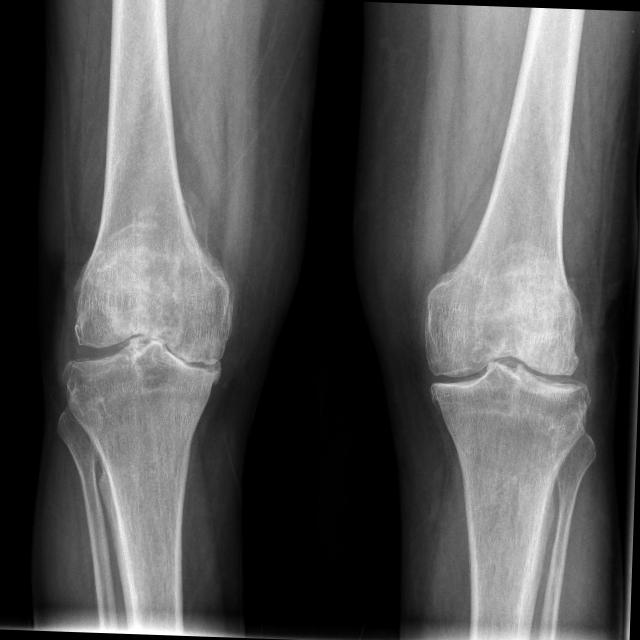Knee: (419, 288, 592, 442), (58, 271, 238, 412)
